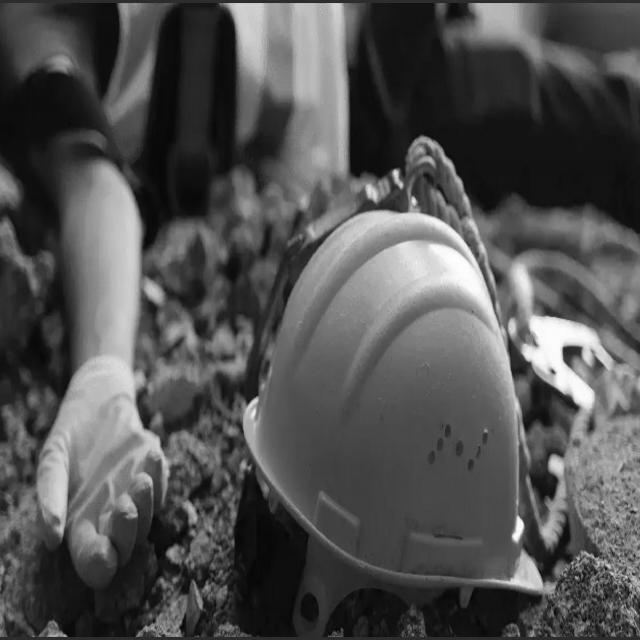safety_helmet: (240, 210, 543, 610)
